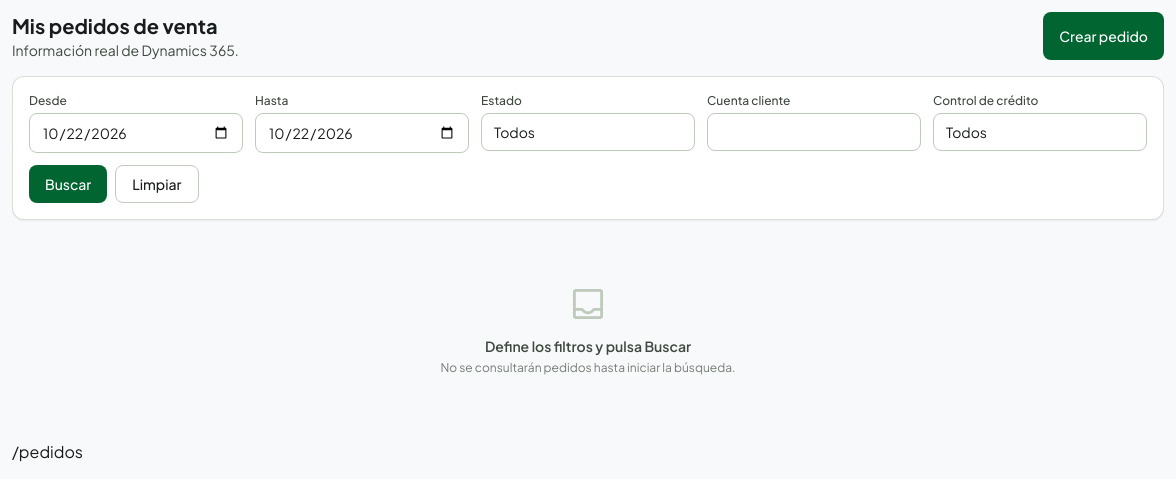
OrdersPage filters, history and recovery › waits for explicit search, applies every filter and clears them without another enabled query
This screenshot has width=1176, height=479.
Check: the text "Define los filtros y pulsa Buscar" is shown, box top-left (485, 336), bottom-right (691, 356)
Type "2026-10-01" into the date field labelled "Desde".
click(136, 133); type("2026-10-01")  # box top-left (29, 113), bottom-right (243, 153)
Type "2026-10-19" into the date field labelled "Hasta".
click(362, 133); type("2026-10-19")  # box top-left (255, 113), bottom-right (469, 153)
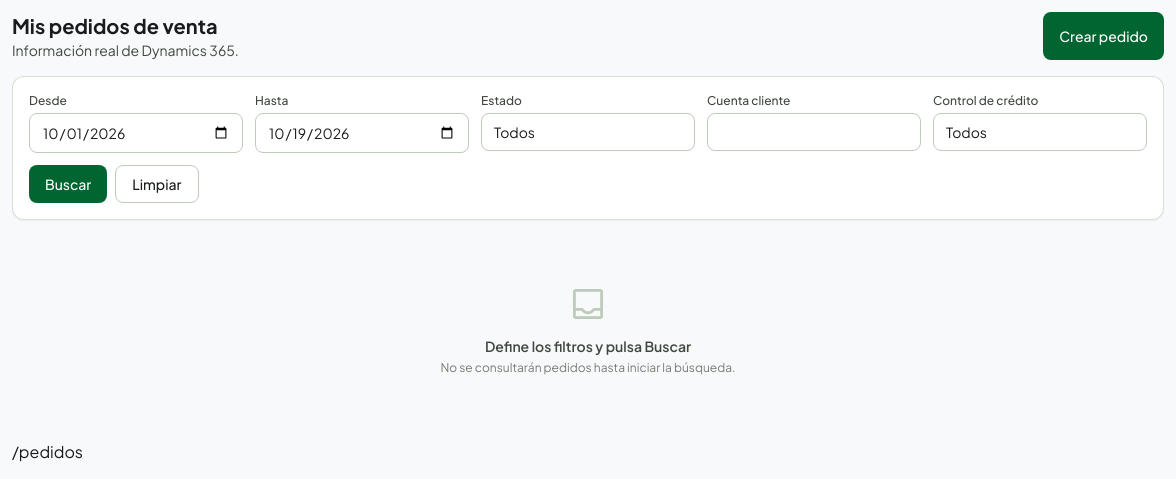
Select "Entregado" in the dropdown labelled "Estado" at [588, 132], box top-left (481, 113), bottom-right (695, 151)
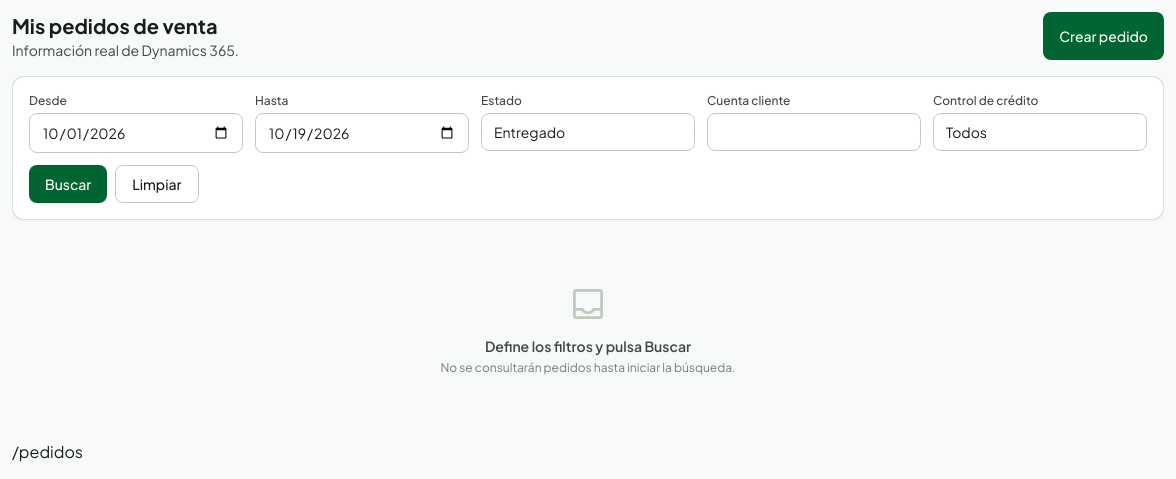
Type "C1" into the field labelled "Cuenta cliente".
click(814, 132); type("C1")  # box top-left (707, 113), bottom-right (921, 151)
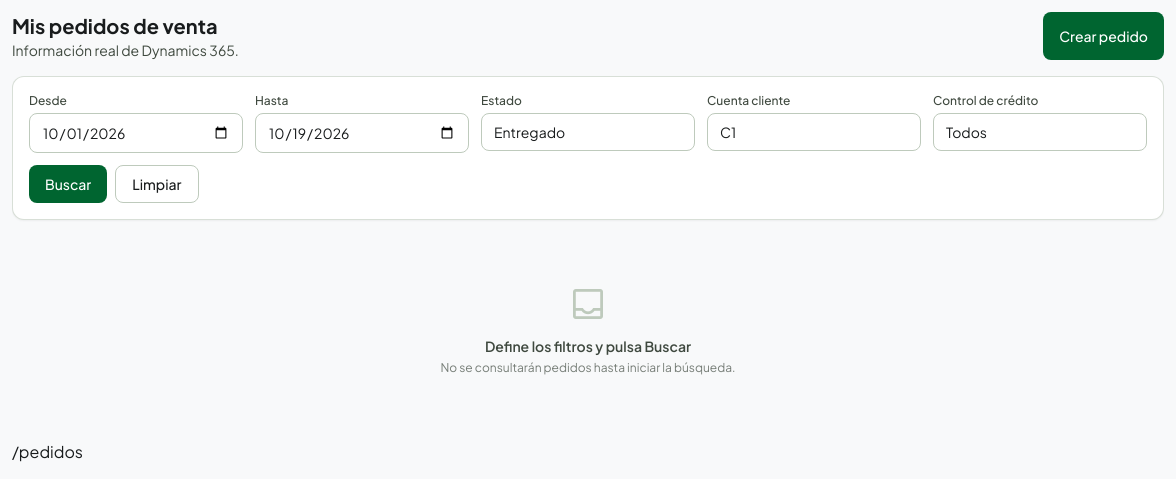
Select "En gestión" in the dropdown labelled "Control de crédito" at [1040, 132], box top-left (933, 113), bottom-right (1147, 151)
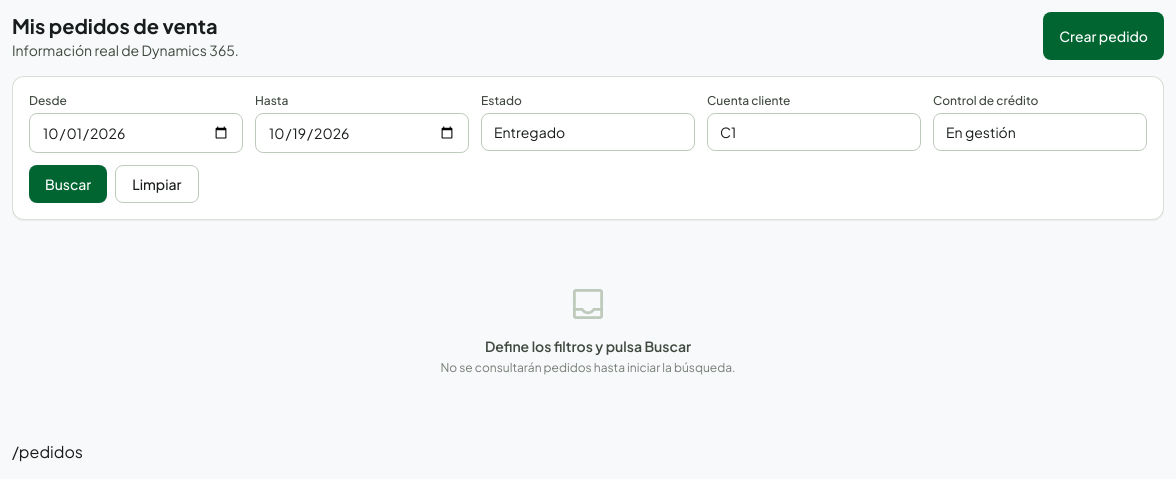
Click the button "Buscar".
click(68, 184)  # box top-left (29, 165), bottom-right (107, 203)
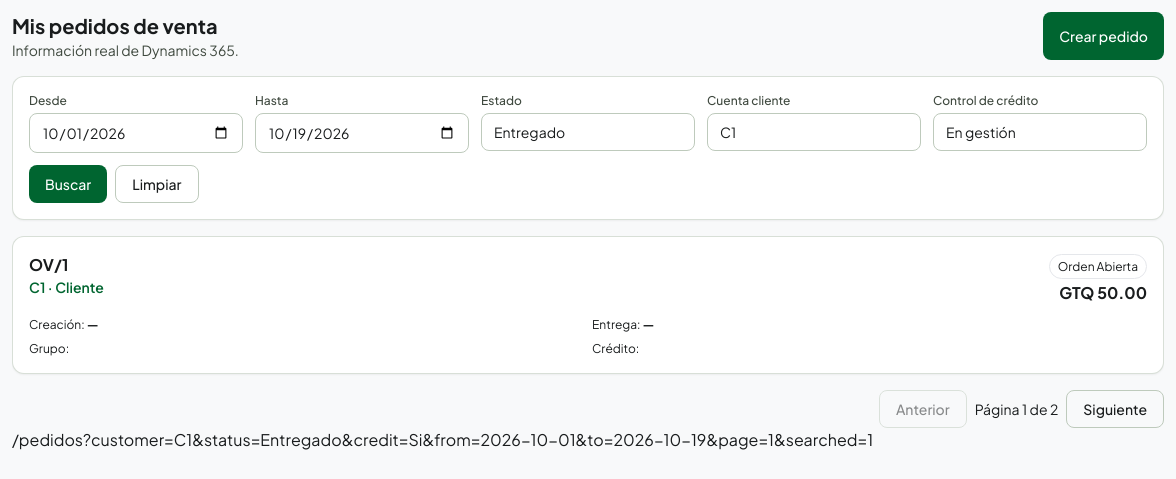
Click the button "Limpiar".
click(157, 184)  # box top-left (115, 165), bottom-right (198, 203)
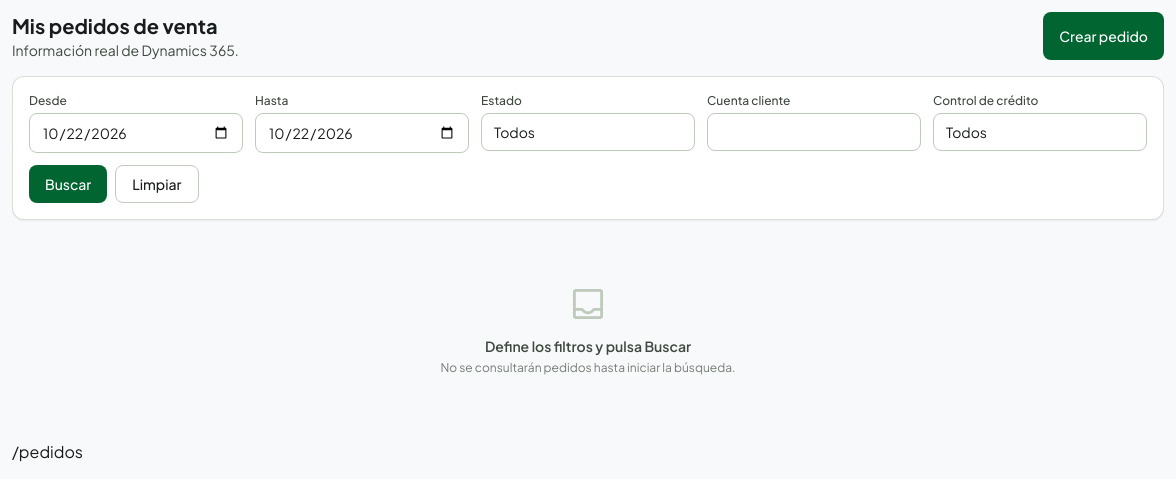
Check: the field labelled "Cuenta cliente" is empty, box top-left (707, 113), bottom-right (921, 151)
Check: the date field labelled "Desde" is not empty, box top-left (29, 113), bottom-right (243, 153)
